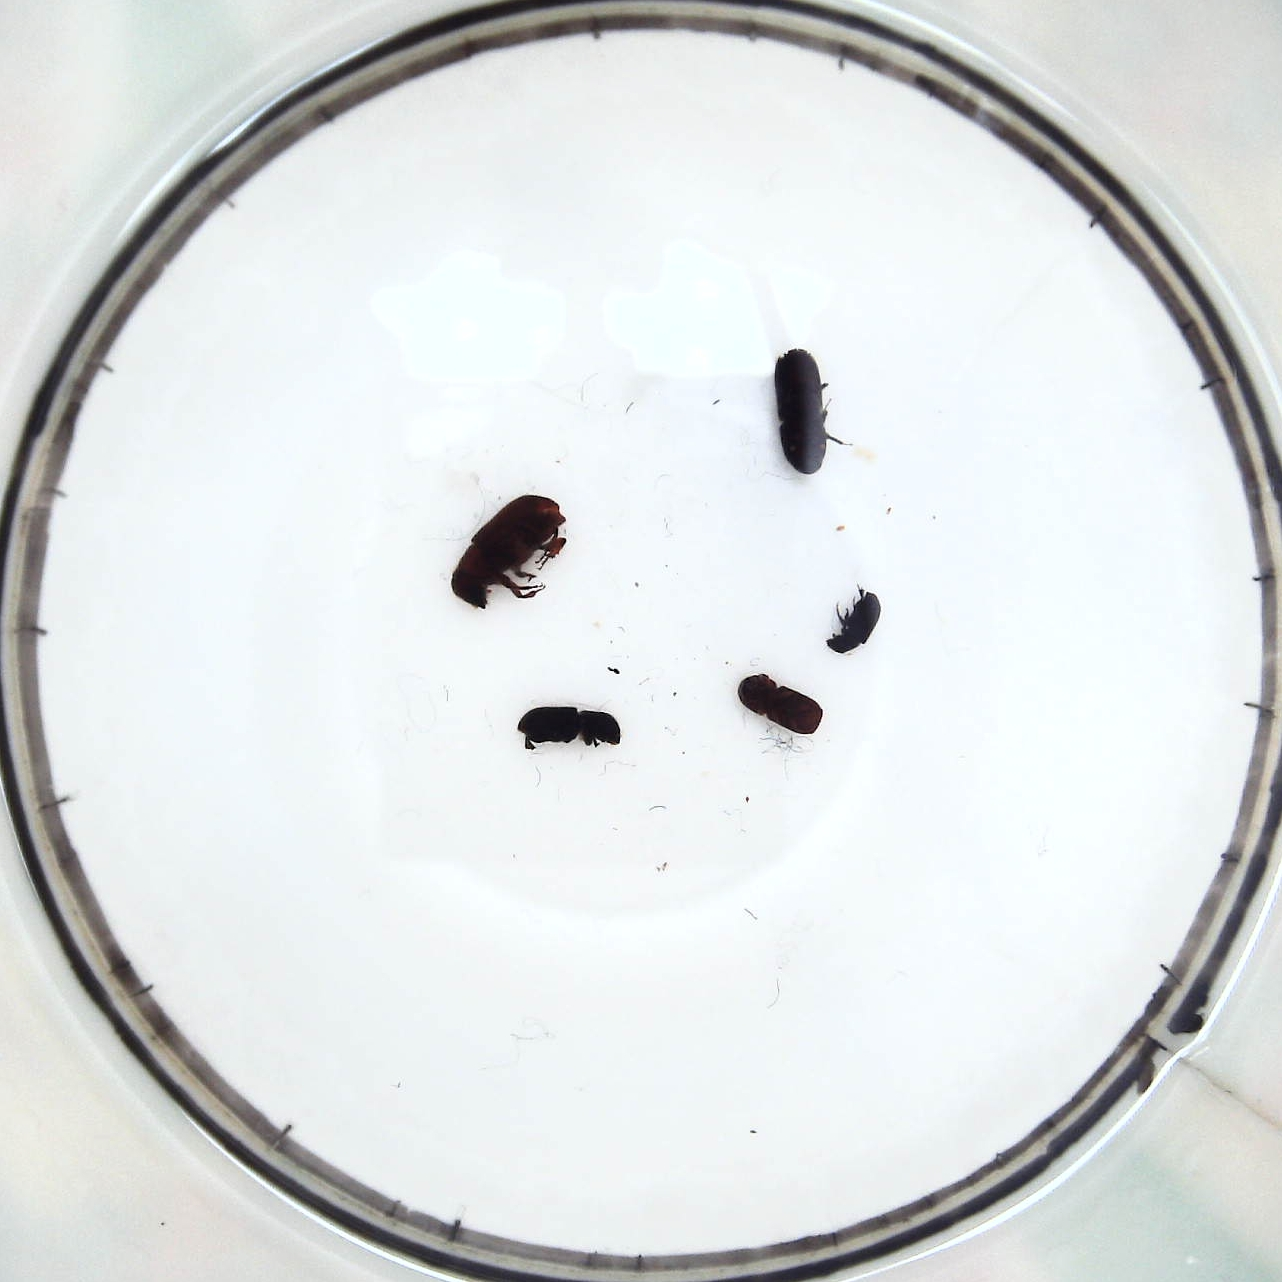Boerner: (769, 348, 842, 471)
Leconte: (447, 491, 566, 612)
Linnaeus: (736, 672, 824, 741)
armandi: (518, 707, 620, 753)
coleoptera: (826, 591, 880, 652)
